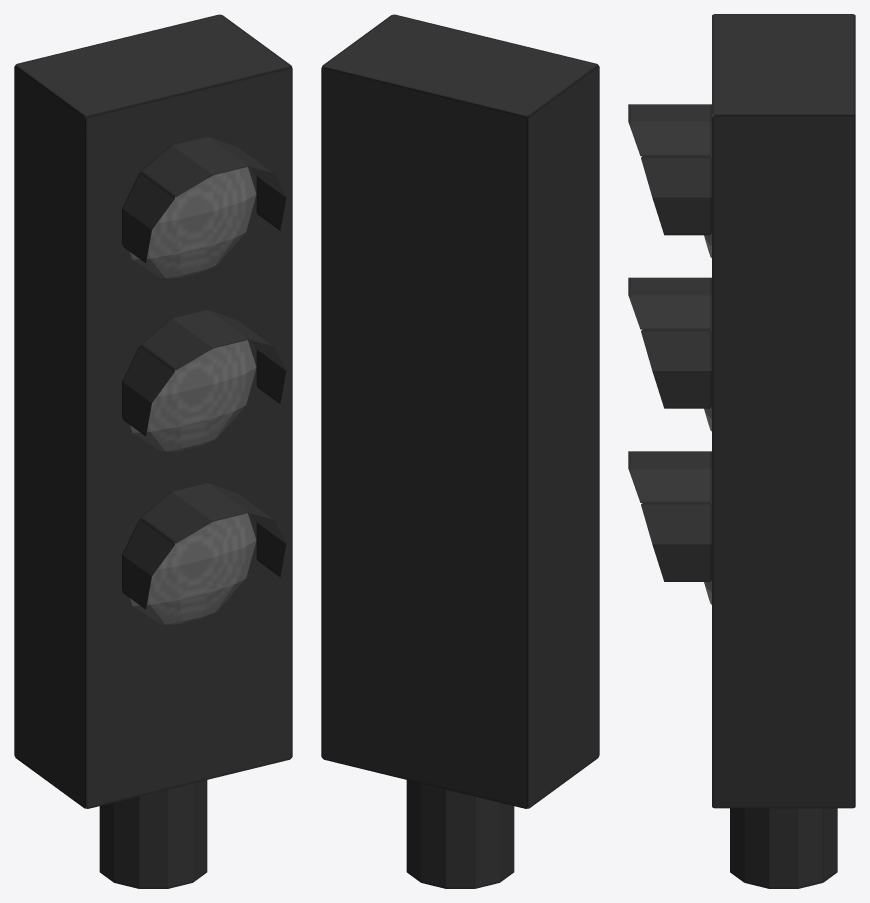
Rendered from dc_metro_signal_light_1r.obj.
The picture shows the model from 3 angles, left to right: view 1: azimuth 30°, elevation 25°; view 2: azimuth 150°, elevation 25°; view 3: azimuth 270°, elevation 25°; orthographic projection.
Parts seen in each view (by area): view 1: box, light, shade, pole; view 2: box, pole; view 3: box, shade, pole.
Part boxes in pixels (bbox=[...]): box: bbox=[14, 14, 292, 808]; light: bbox=[130, 167, 256, 624]; shade: bbox=[122, 136, 286, 609]; pole: bbox=[99, 780, 207, 888]; box: bbox=[321, 14, 599, 808]; pole: bbox=[406, 780, 514, 888]; box: bbox=[712, 14, 855, 808]; shade: bbox=[628, 104, 711, 581]; pole: bbox=[730, 808, 837, 888].
Bounding box in the file's own units: 0.3125 × 1.16 × 0.2969.
Materials: 1 (1 with a texture image).
